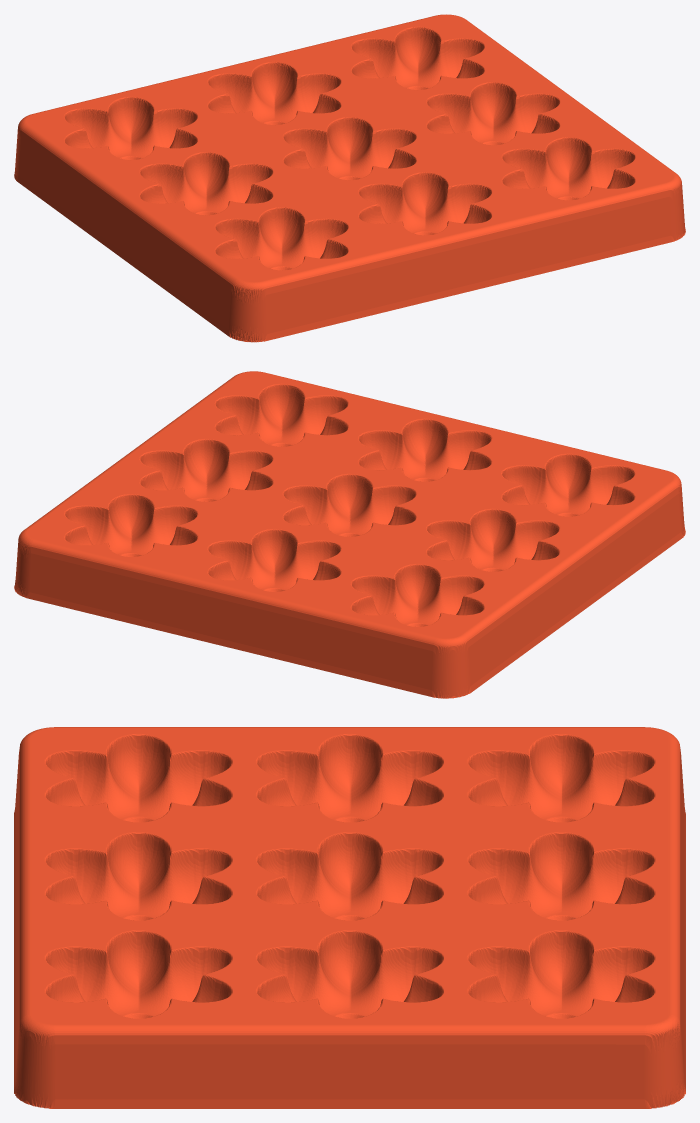
File: mold.glb
3 renders of one model, top to bottom at view 1: azimuth 30°, elevation 25°; view 2: azimuth 150°, elevation 25°; view 3: azimuth 270°, elevation 25°, orthographic. The views are drawn at different scales.
Parts seen in each view (by area): view 1: geometry_0; view 2: geometry_0; view 3: geometry_0.
Part boxes in pixels (bbox=[...]): geometry_0: bbox=[14, 14, 685, 342]; geometry_0: bbox=[14, 371, 685, 698]; geometry_0: bbox=[14, 727, 685, 1108].
Size of the model in its own units: 0.1595 by 0.0185 by 0.1459.
